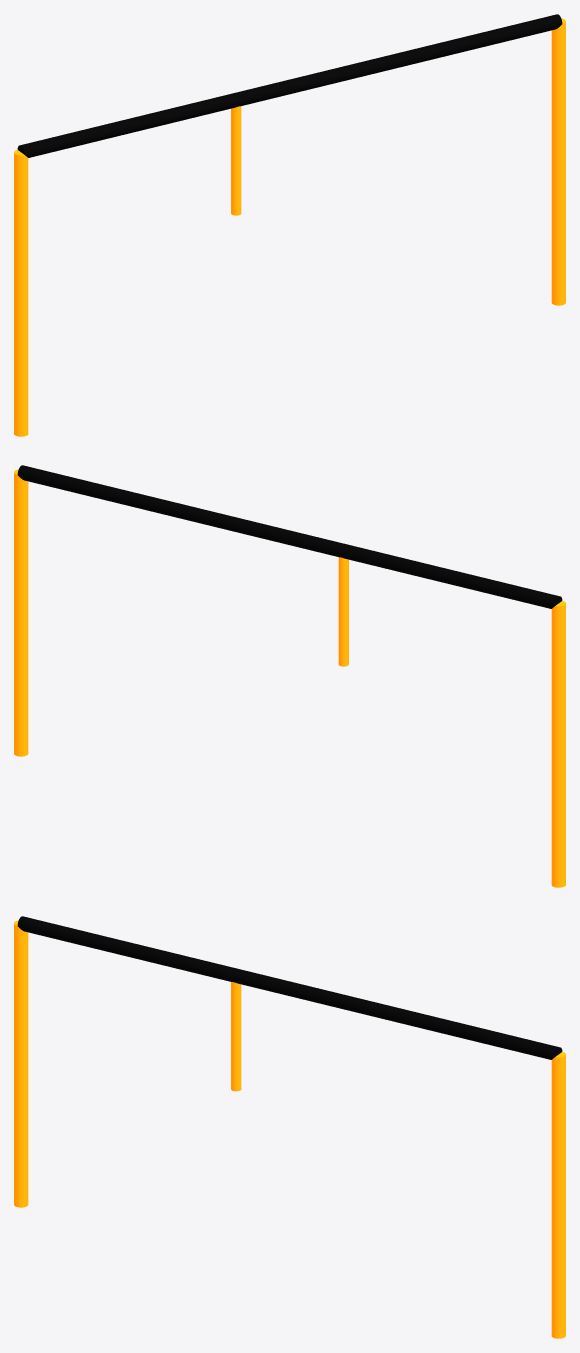
The model's file is gate.dae.
3 renders of one model, top to bottom at view 1: azimuth 30°, elevation 25°; view 2: azimuth 150°, elevation 25°; view 3: azimuth 330°, elevation 25°, orthographic.
Visible parts, largest first — view 1: Cylinder.002, Cylinder.001, Cylinder, Cylinder.003; view 2: Cylinder.002, Cylinder.001, Cylinder, Cylinder.003; view 3: Cylinder.002, Cylinder, Cylinder.001, Cylinder.003.
Part boxes in pixels (x1=…): Cylinder.002: x1=17, y1=14, x2=562, y2=157; Cylinder.001: x1=14, y1=150, x2=28, y2=436; Cylinder: x1=551, y1=18, x2=565, y2=305; Cylinder.003: x1=231, y1=106, x2=241, y2=215; Cylinder.002: x1=17, y1=465, x2=562, y2=608; Cylinder.001: x1=551, y1=601, x2=565, y2=887; Cylinder: x1=14, y1=469, x2=28, y2=756; Cylinder.003: x1=338, y1=557, x2=348, y2=666; Cylinder.002: x1=17, y1=916, x2=562, y2=1059; Cylinder: x1=551, y1=1052, x2=565, y2=1338; Cylinder.001: x1=14, y1=920, x2=28, y2=1207; Cylinder.003: x1=231, y1=982, x2=241, y2=1091.
Bounding box in the file's own units: 3.07 × 0.07 × 1.54.
